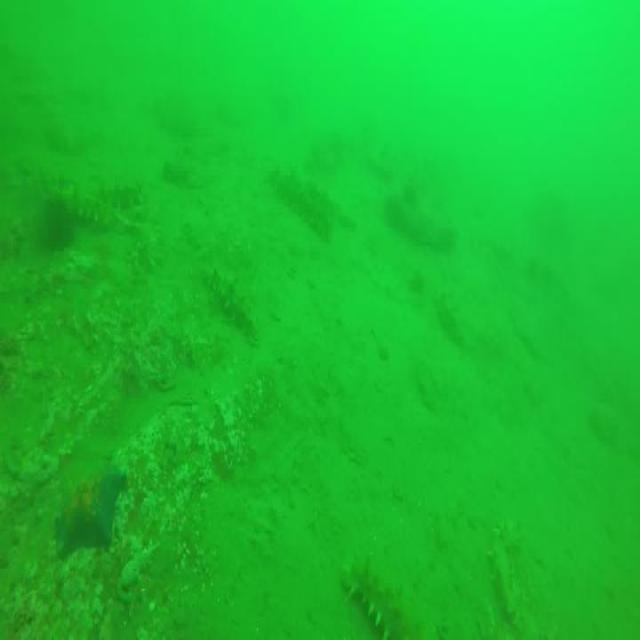holothurian: (343, 565, 434, 640), (271, 160, 342, 232), (208, 261, 263, 341), (39, 187, 124, 237), (488, 510, 525, 620), (70, 169, 139, 212)
starfish: (56, 472, 124, 550)
